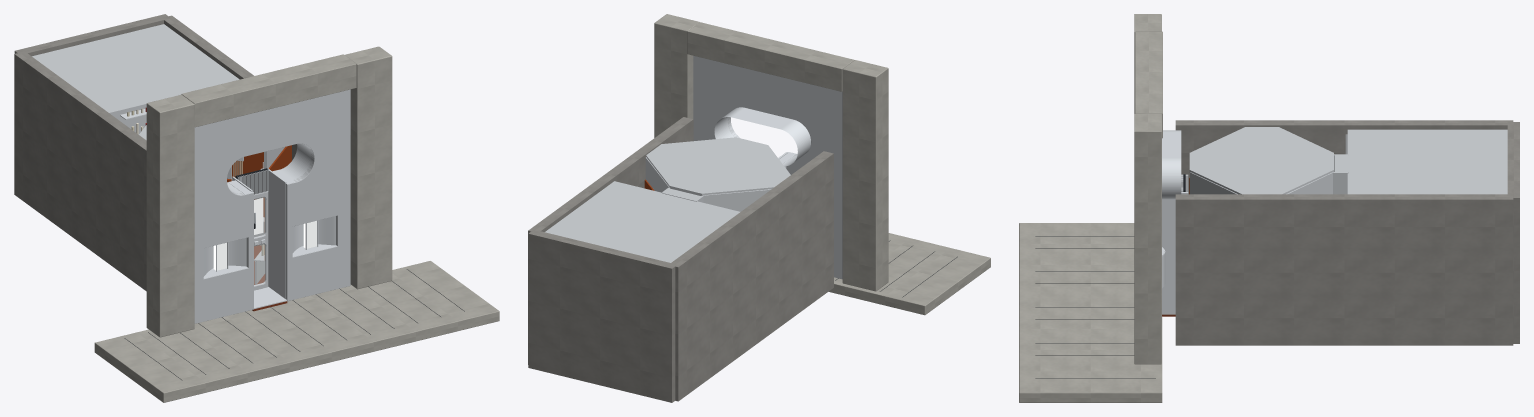
3 renders of one model, left to right at view 1: azimuth 30°, elevation 25°; view 2: azimuth 150°, elevation 25°; view 3: azimuth 270°, elevation 25°, orthographic. The views are drawn at different scales.
Visible parts, largest first — view 1: 12_Complete_Architecture; view 2: 12_Complete_Architecture; view 3: 12_Complete_Architecture.
Boxes of the visible parts, x1,y1,x2,y2 form: 12_Complete_Architecture: [14, 14, 499, 402]; 12_Complete_Architecture: [528, 14, 990, 402]; 12_Complete_Architecture: [1019, 14, 1519, 402].
Bounding box in the file's own units: 8 × 5.4 × 9.97.
17 materials, 2 textured.
